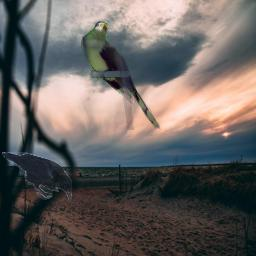Crow: (2, 152, 72, 200)
Cuckoo: (81, 21, 165, 130)
